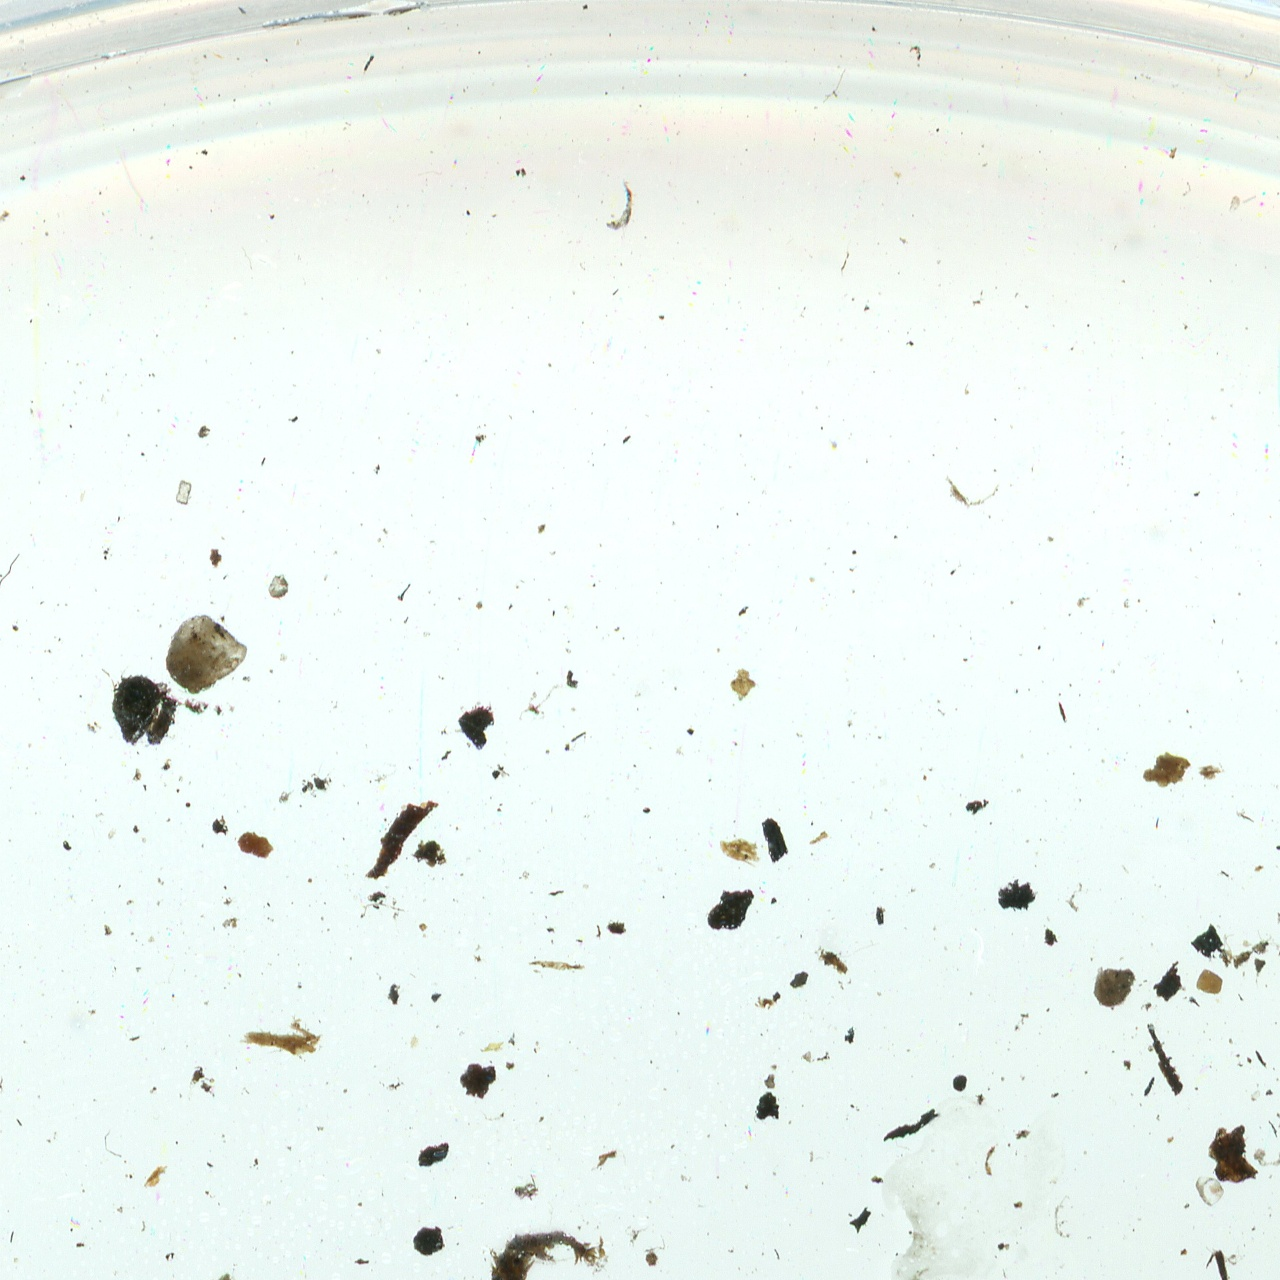arthropod: (604, 179, 634, 232)
